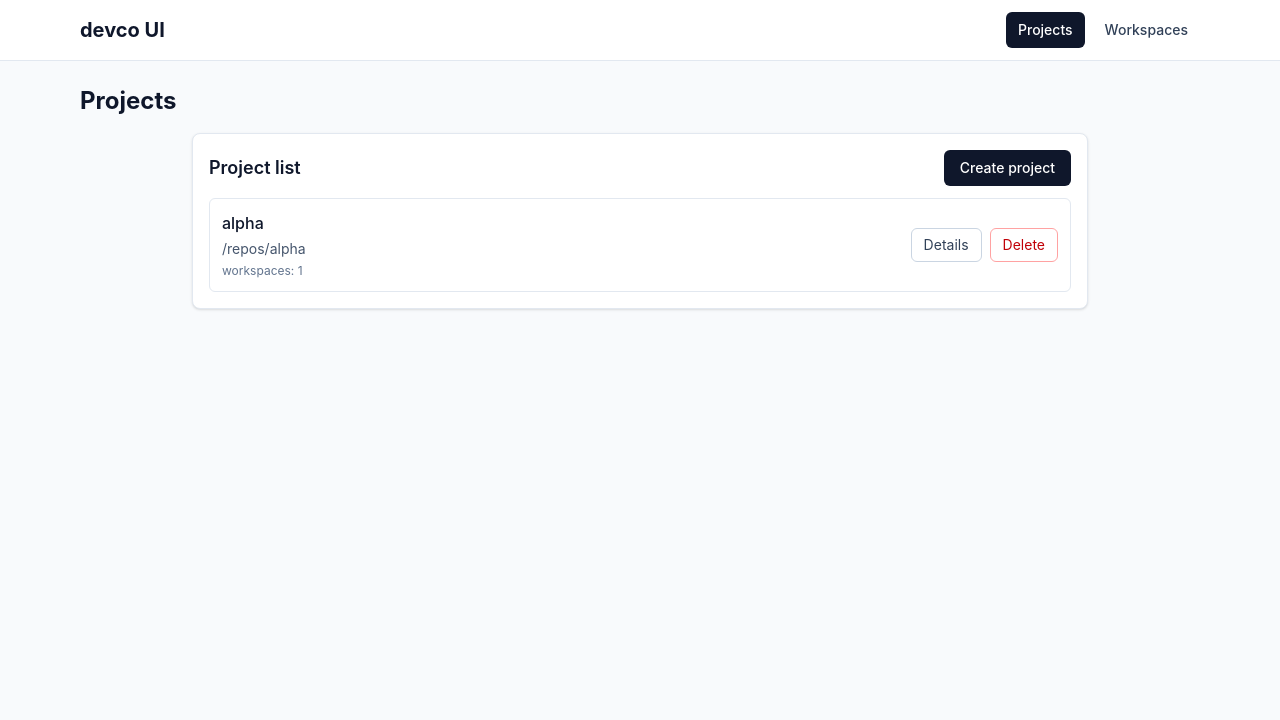
Test: App browser flows › opens create project with modal popup
The width and height of the screenshot is (1280, 720).
Expected: the text "alpha" is shown, [222,213,264,233]
Click the button "Create project" at (1007, 168), box [944,150,1071,186]
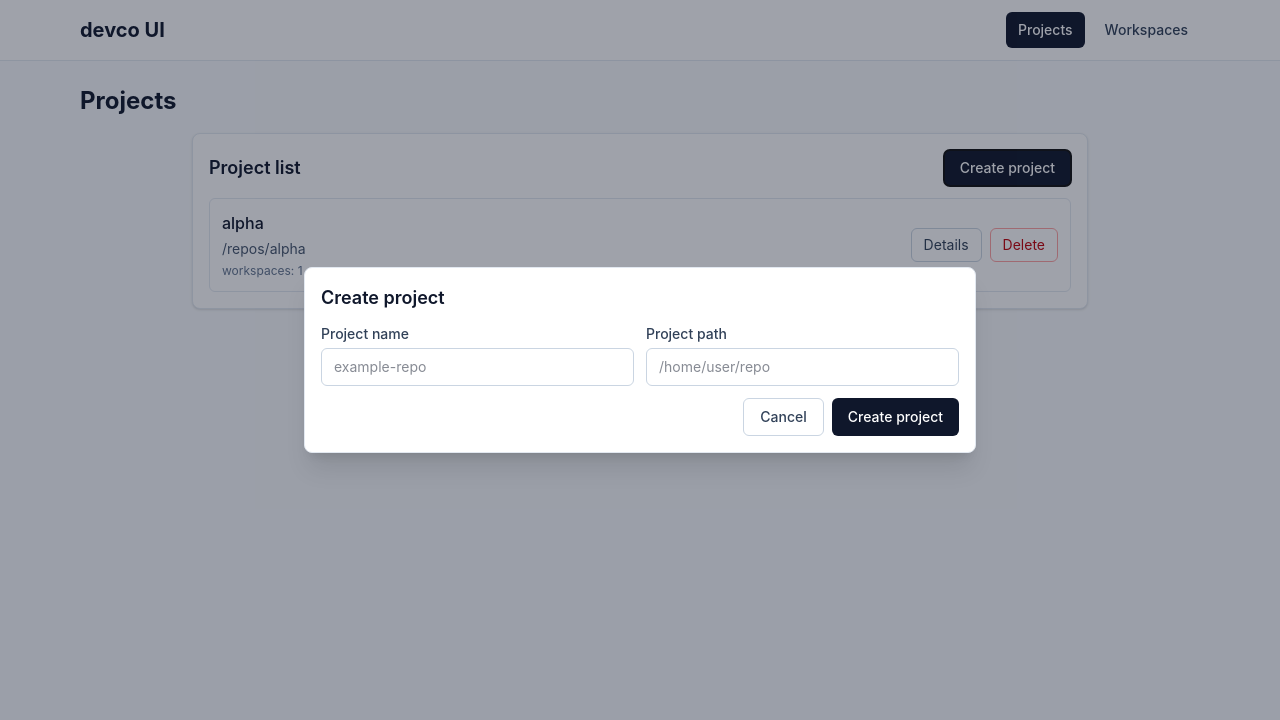
Now the button "Cancel" is shown, box [743,398,824,436]
